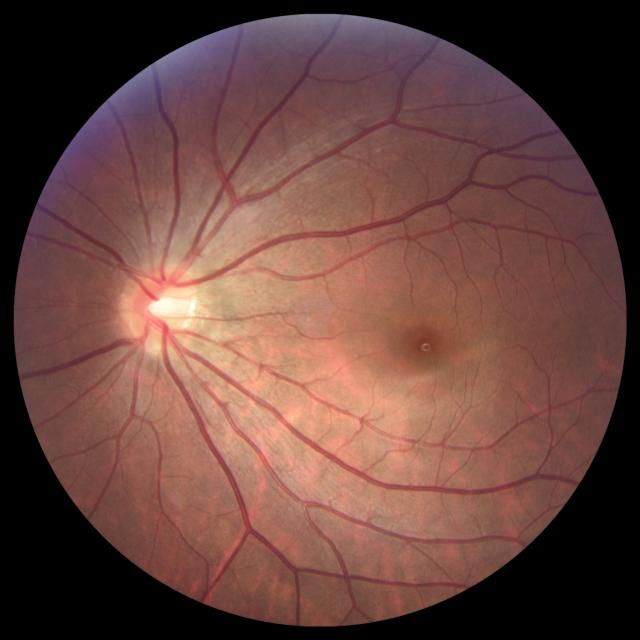OC: (149, 292, 182, 326)
OD: (122, 257, 195, 355)
